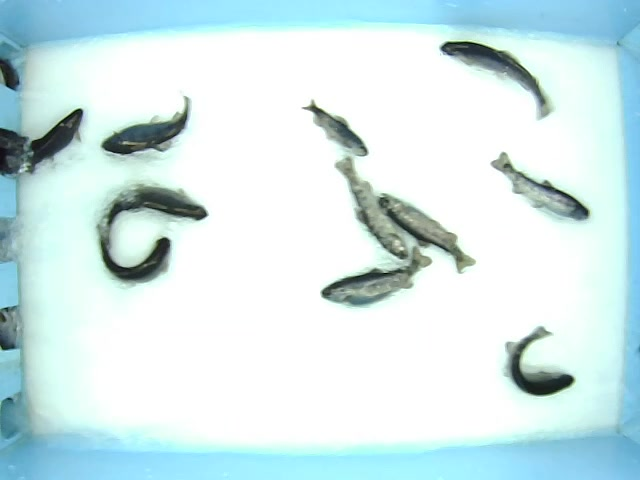fish: (437, 39, 553, 122), (376, 191, 479, 276), (334, 155, 412, 259), (488, 150, 591, 223), (99, 183, 208, 251), (321, 245, 432, 305), (99, 93, 191, 155), (501, 324, 575, 397), (98, 224, 171, 284), (21, 108, 86, 175), (300, 98, 371, 158)
